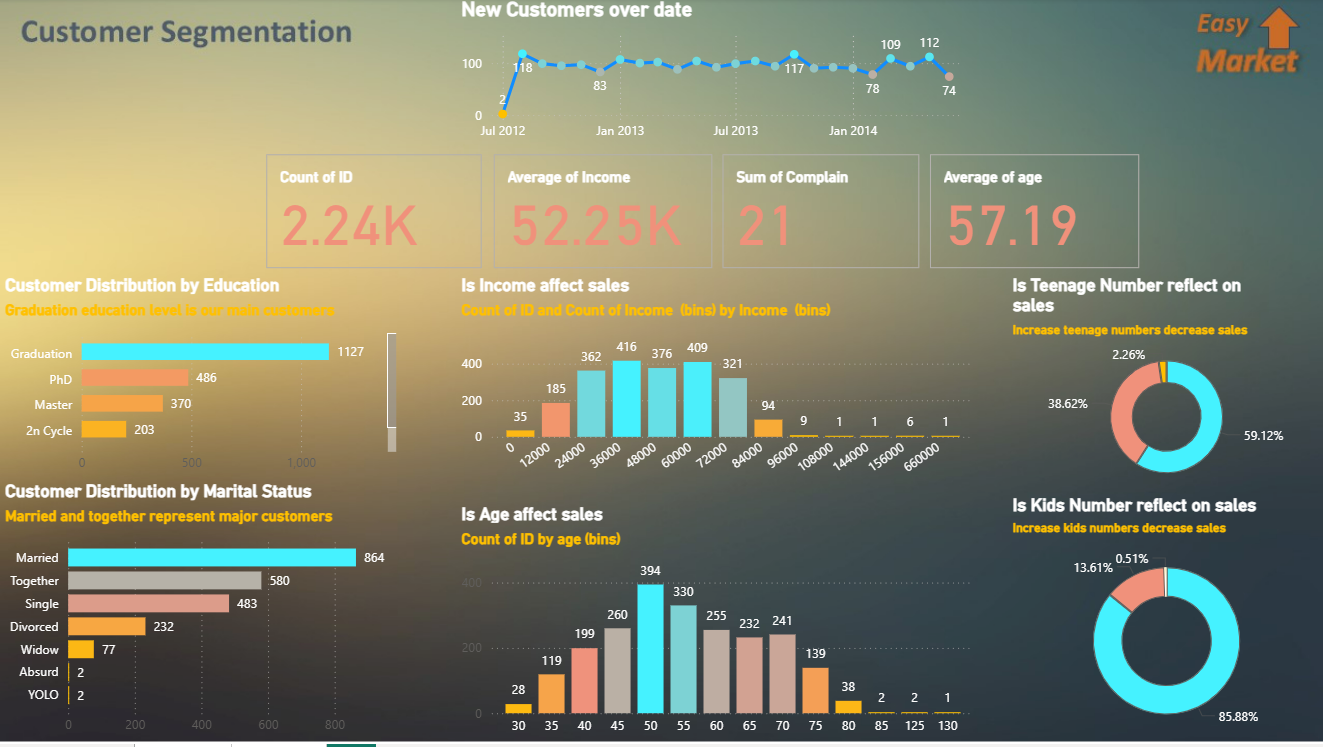

This screenshot's page, from the dashboard's own definition file:
{"tool":"powerbi","page":{"name":"Page 2","canvas":[1280,720],"ordinal":0},"visuals":[{"type":"clusteredBarChart","title":"Customer Distribution by Marital Status","fields":{"Y":["CountNonNull(master_data.ID)"],"Category":["master_data.Marital_Status"]},"box":[0,466.2,387.5,253.8],"z":0},{"type":"clusteredBarChart","title":"Customer Distribution by Education","fields":{"Y":["CountNonNull(master_data.ID)"],"Category":["master_data.Education"]},"box":[0,266.2,387.5,200],"z":1000},{"type":"clusteredColumnChart","title":"Is Income affect sales","fields":{"Category":["master_data.Income  (bins)"],"Y":["CountNonNull(master_data.ID)"]},"box":[440,266.2,505,212.5],"z":2000},{"type":"clusteredColumnChart","title":"Is Age affect sales","fields":{"Category":["master_data.age (bins)"],"Y":["CountNonNull(master_data.ID)"]},"box":[440,487.5,505,232.5],"z":3000},{"type":"donutChart","title":"Is Teenage Number reflect on sales","fields":{"Category":["master_data.Teenhome"],"Y":["Sum(product.amount)"]},"box":[972.5,266.2,307.5,212.5],"z":4000},{"type":"donutChart","title":"Is Kids Number reflect on sales","fields":{"Category":["master_data.Kidhome"],"Y":["Sum(product.amount)"]},"box":[972.5,478.8,307.5,241.2],"z":5000},{"type":"cardVisual","fields":{"Data":["CountNonNull(master_data.ID)"]},"box":[252.5,146.2,218.8,120],"z":6000},{"type":"cardVisual","fields":{"Data":["Avg(master_data. Income )"]},"box":[471.2,146.2,221.2,120],"z":7000},{"type":"cardVisual","fields":{"Data":["Sum(master_data.Complain)"]},"box":[692.5,146.2,200,120],"z":8000},{"type":"cardVisual","fields":{"Data":["Avg(master_data.age)"]},"box":[892.5,146.2,212.5,120],"z":9000},{"type":"lineChart","title":"New Customers over date","fields":{"Y":["CountNonNull(master_data.ID)"],"Category":["master_data.Dt_Customer.Variation.Date Hierarchy.Year","master_data.Dt_Customer.Variation.Date Hierarchy.Month"]},"box":[440,0,505,146.2],"z":10000}]}

Visuals, with their boxes in screenshot pixels (x1, y1, x2, y2), scaled from the page's 1280x720 canvas onto the 1323x747 screenshot:
"Customer Distribution by Marital Status" clusteredBarChart: x1=0 y1=484 x2=401 y2=746
"Customer Distribution by Education" clusteredBarChart: x1=0 y1=276 x2=401 y2=484
"Is Income affect sales" clusteredColumnChart: x1=455 y1=276 x2=977 y2=497
"Is Age affect sales" clusteredColumnChart: x1=455 y1=506 x2=977 y2=746
"Is Teenage Number reflect on sales" donutChart: x1=1005 y1=276 x2=1322 y2=497
"Is Kids Number reflect on sales" donutChart: x1=1005 y1=497 x2=1322 y2=746
cardVisual - CountNonNull(master_data.ID): x1=261 y1=152 x2=487 y2=276
cardVisual - Avg(master_data. Income ): x1=487 y1=152 x2=716 y2=276
cardVisual - Sum(master_data.Complain): x1=716 y1=152 x2=922 y2=276
cardVisual - Avg(master_data.age): x1=922 y1=152 x2=1142 y2=276
"New Customers over date" lineChart: x1=455 y1=0 x2=977 y2=152
